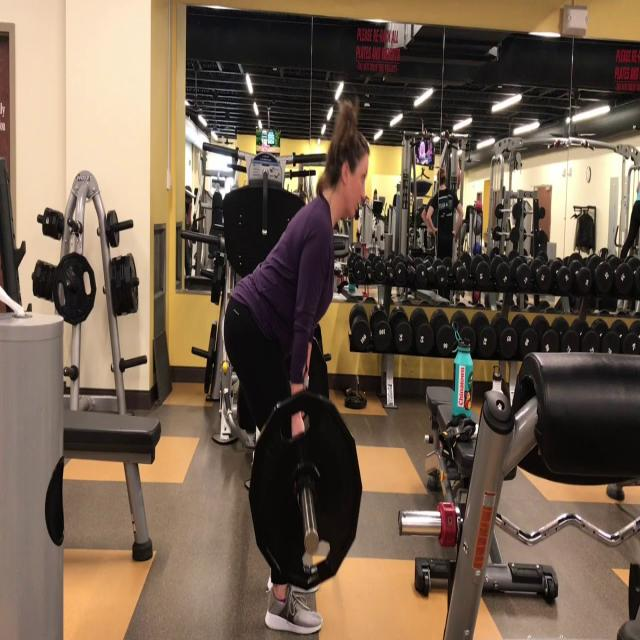deadlift: (210, 89, 372, 640)
